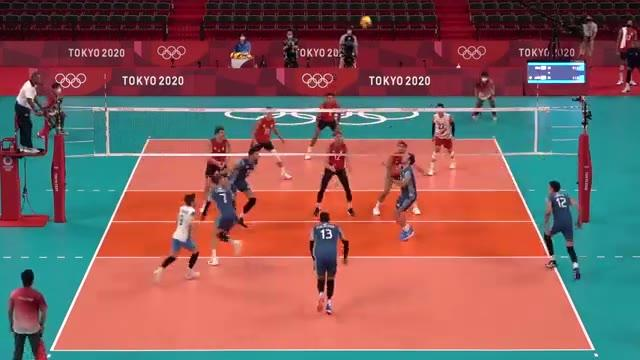ball: (359, 14, 372, 30)
